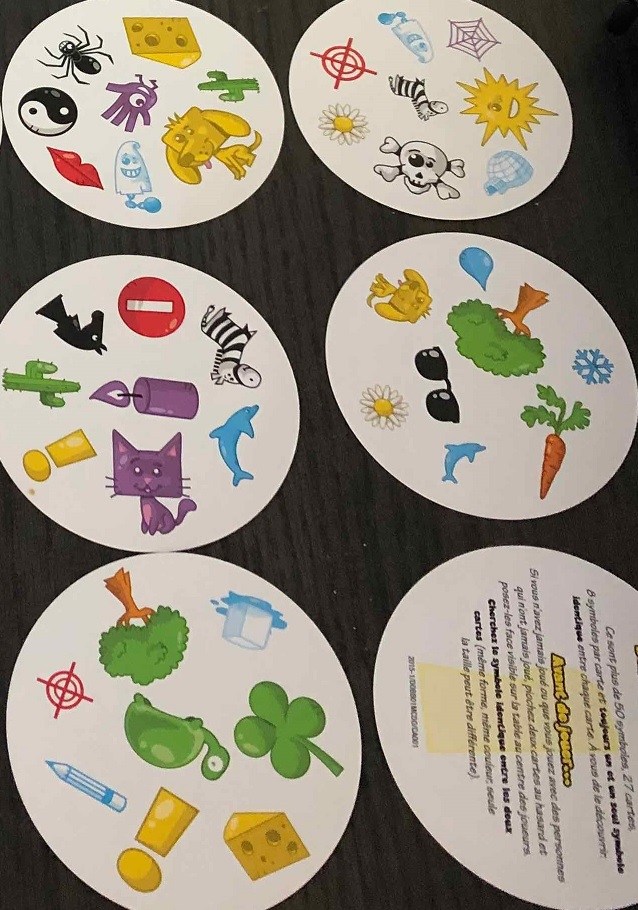araignee: (36, 21, 115, 87)
arbre: (96, 563, 190, 688), (444, 280, 556, 380)
bouche: (41, 143, 110, 193)
bougie: (87, 370, 201, 423)
cactus: (1, 358, 81, 411), (192, 67, 260, 108)
carotte: (517, 377, 592, 497)
chat: (103, 426, 201, 539)
cheval: (35, 297, 109, 359)
chien: (162, 102, 262, 193), (360, 262, 438, 332)
cible: (310, 33, 379, 92), (34, 655, 92, 720)
crayon: (46, 751, 126, 814)
dauphin: (207, 402, 269, 489), (437, 437, 490, 490)
dooble: (95, 73, 161, 133)
fantome: (108, 137, 165, 215), (372, 7, 442, 66)
fleur: (360, 380, 411, 431), (318, 100, 371, 148)
flocon: (567, 342, 617, 393)
fromage: (216, 802, 315, 887), (115, 11, 207, 77)
glacon: (203, 584, 289, 653)
goutte: (453, 242, 500, 291)
igloo: (477, 147, 540, 201)
lunette: (414, 342, 463, 427)
point_exclamation: (114, 785, 206, 903), (19, 422, 101, 480)
sens_interdit: (112, 271, 190, 343)
soleil: (449, 63, 561, 150)
tete_mort: (375, 134, 469, 203)
toile: (444, 14, 504, 62)
tortue: (120, 691, 232, 780)
trefle: (228, 677, 350, 787)
ying_yang: (10, 83, 79, 138)
zebre: (197, 302, 266, 391), (384, 68, 455, 128)
